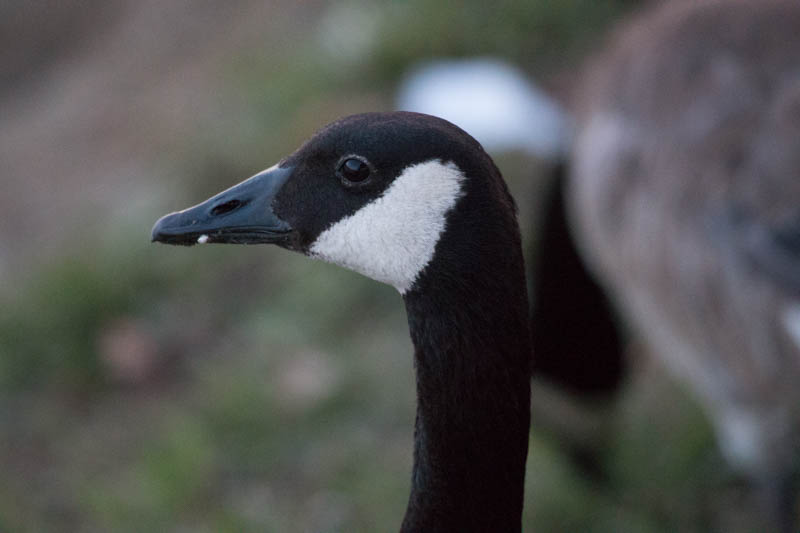goose-head: (150, 112, 530, 298)
